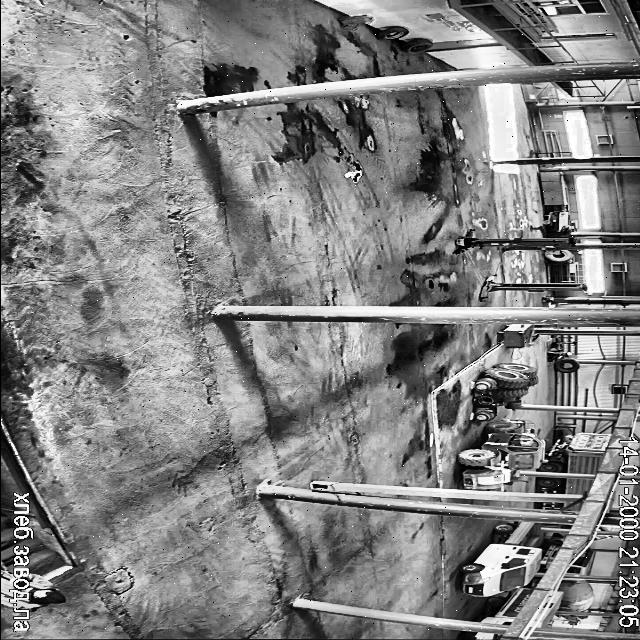class4: (2, 571, 65, 610)
class6: (459, 420, 544, 489), (475, 362, 538, 420)
class7: (460, 522, 540, 596), (540, 432, 612, 473), (482, 588, 532, 624), (558, 580, 594, 620), (538, 592, 562, 628), (538, 477, 591, 493), (541, 536, 563, 568), (567, 548, 594, 574), (460, 632, 500, 640), (542, 500, 562, 508), (565, 504, 580, 510)
tractor: (340, 16, 372, 25)
truck: (454, 229, 574, 253), (479, 275, 586, 300)
